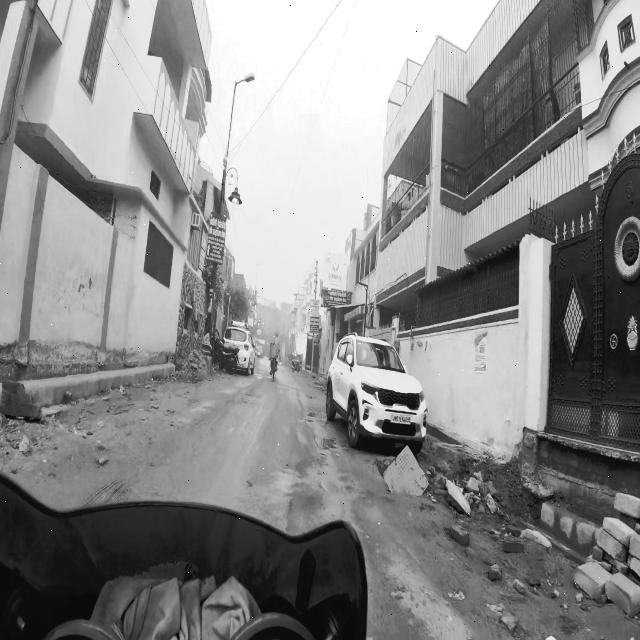Car: (322, 334, 431, 460), (221, 326, 260, 381)
